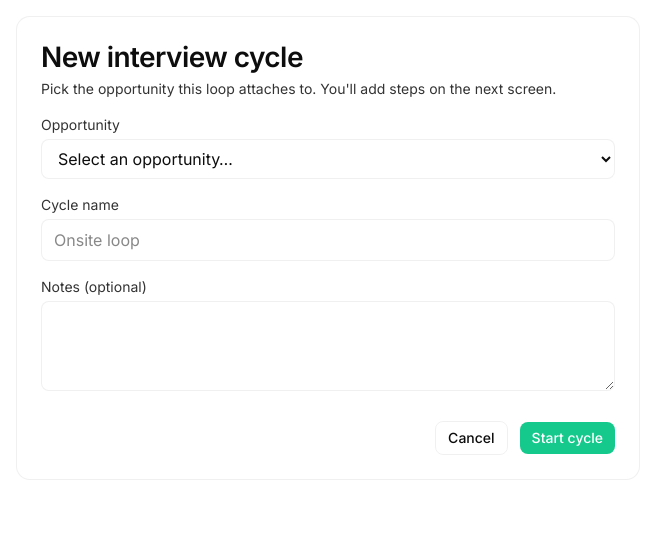
Test: InterviewCycleCreate › blocks submission when no opportunity selected
The width and height of the screenshot is (657, 533).
Type "x" into the field with test id "interview-cycle-create-name" at [328, 240], box 41,219 -> 615,261
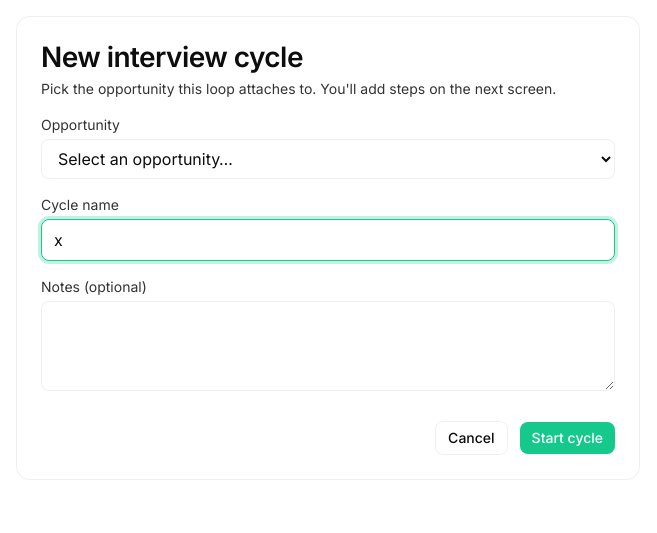
Submit the form with test id "interview-cycle-create-form"
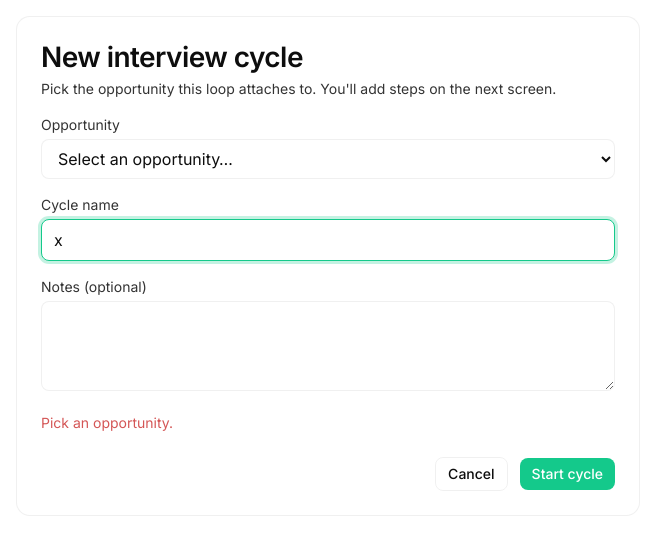
Check: the message with test id "interview-cycle-create-error" shows "Pick an opportunity", box 41,414 -> 173,431
